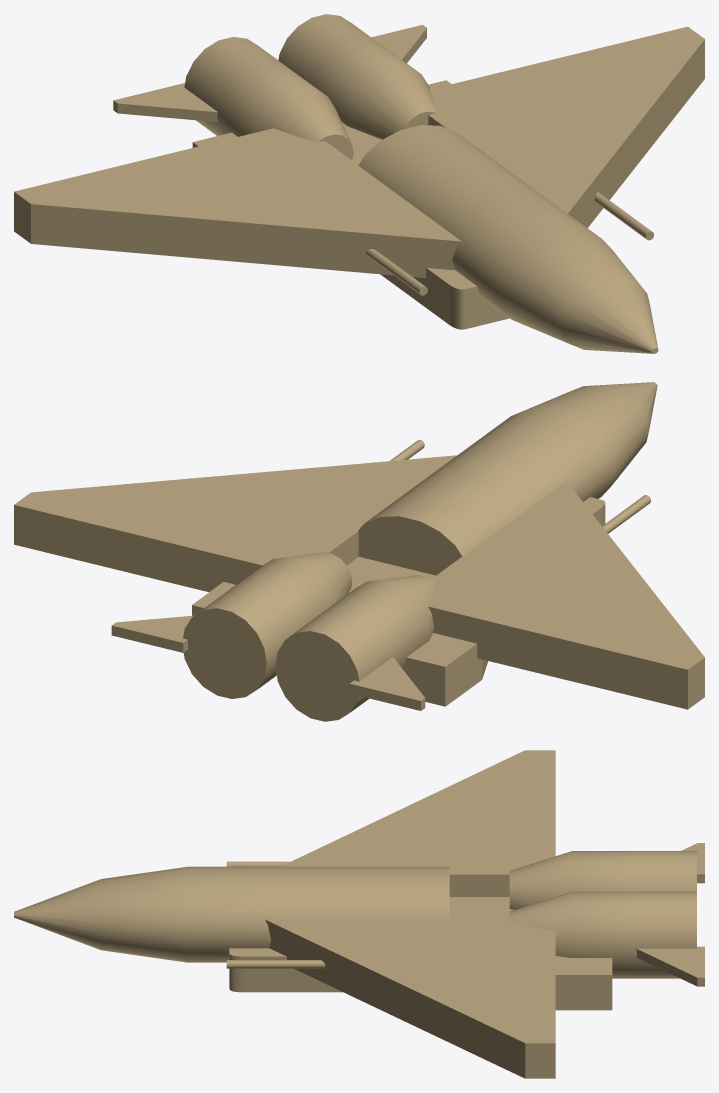
File: Player_Test.FBX
The picture shows the model from 3 angles, top to bottom: view 1: azimuth 30°, elevation 25°; view 2: azimuth 150°, elevation 25°; view 3: azimuth 270°, elevation 25°; orthographic projection. The views are drawn at different scales.
Parts seen in each view (by area): view 1: Box001, Cylinder001, Box003, Cylinder002, Cylinder003, Box006, Box004, Box005, Box002, Cylinder004, Cylinder005; view 2: Box001, Box003, Cylinder001, Cylinder003, Cylinder002, Box002, Box004, Box005, Cylinder004; view 3: Box003, Cylinder001, Box001, Cylinder002, Cylinder003, Box002, Box006, Box005, Cylinder005.
Boxes of the visible parts, x1,y1,x2,y2 form: Box001: (14, 128, 461, 278); Cylinder001: (358, 125, 658, 353); Box003: (428, 26, 704, 227); Cylinder002: (278, 14, 435, 139); Cylinder003: (184, 37, 353, 159); Box006: (380, 268, 509, 329); Box004: (113, 83, 217, 121); Box005: (371, 24, 426, 63); Box002: (192, 80, 451, 164); Cylinder004: (366, 249, 427, 295); Cylinder005: (594, 192, 653, 240); Box001: (428, 481, 704, 709); Box003: (14, 455, 456, 591); Cylinder001: (358, 382, 657, 575); Cylinder003: (275, 575, 435, 721); Cylinder002: (183, 552, 352, 698); Box002: (192, 557, 488, 706); Box004: (349, 657, 425, 710); Box005: (111, 615, 193, 652); Cylinder004: (602, 495, 650, 533); Box003: (265, 919, 555, 1078); Cylinder001: (14, 866, 449, 962); Box001: (281, 750, 555, 896); Cylinder002: (509, 891, 696, 978); Cylinder003: (509, 851, 696, 909); Box002: (449, 897, 612, 1010); Box006: (229, 948, 342, 992); Box005: (636, 946, 704, 986); Cylinder005: (226, 960, 325, 968).
Bounding box in the file's own units: 79.72 × 10.7 × 79.33.
